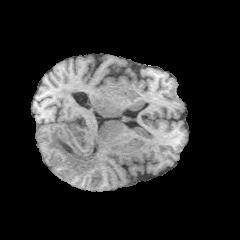glioma: (49, 128, 99, 176)
